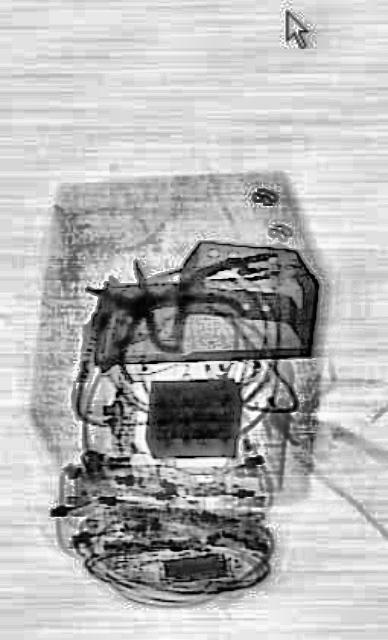Pliers: (69, 183, 245, 443)
